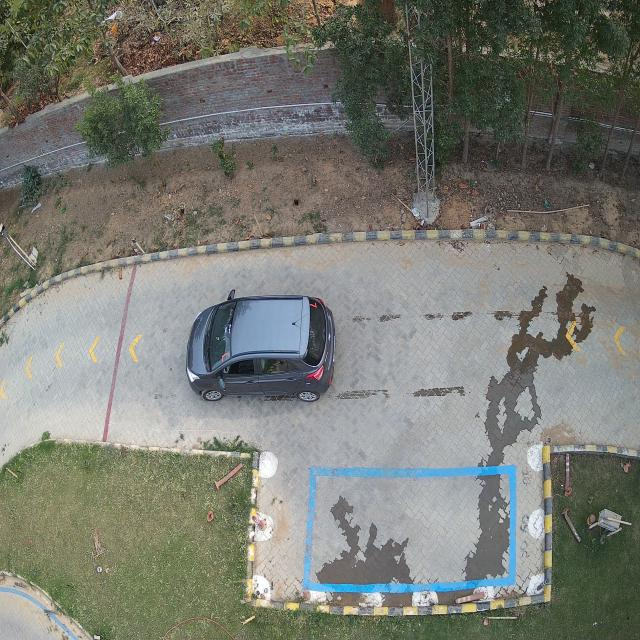car: (186, 290, 335, 402)
